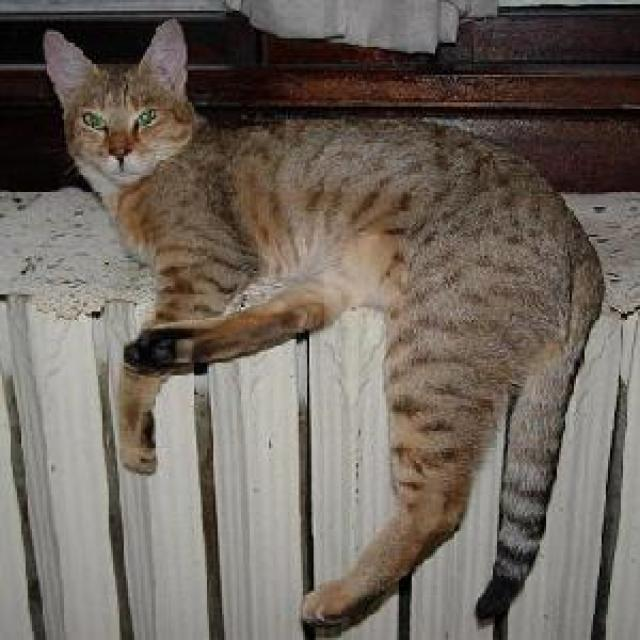Bengal: (40, 15, 190, 183)
